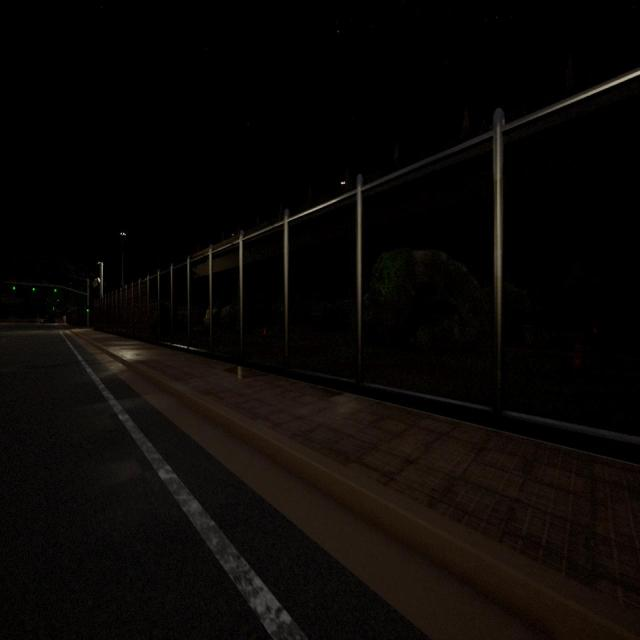traffic_light: (32, 284, 35, 292), (12, 283, 15, 290), (87, 307, 89, 313), (54, 286, 56, 292)
